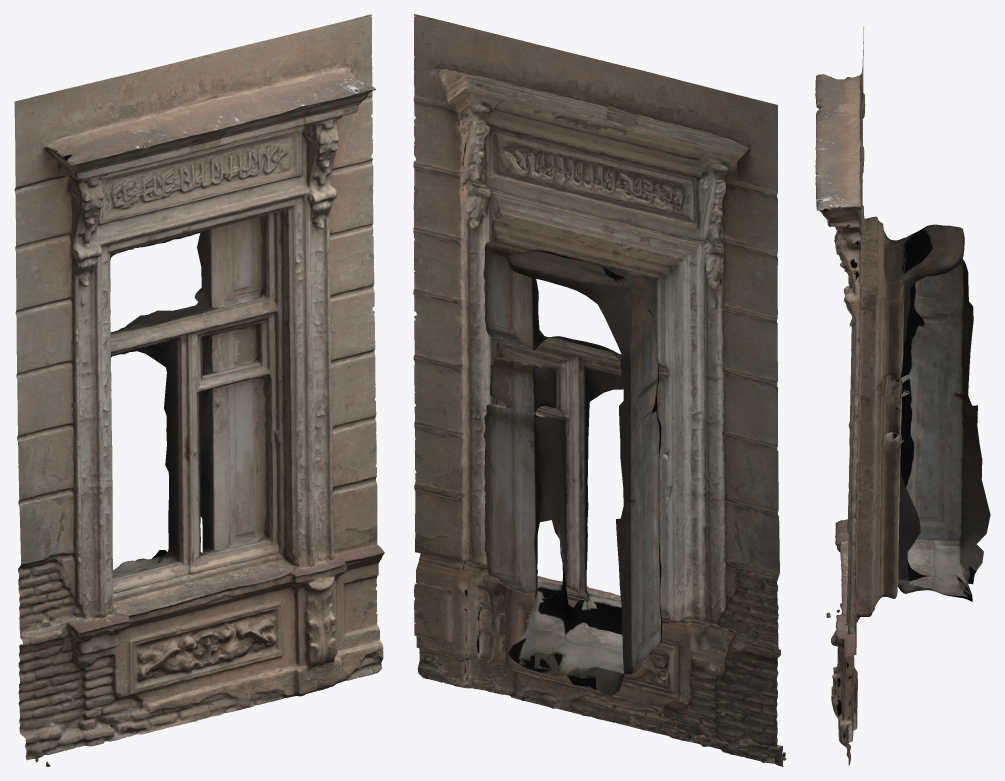
File: nik-window-2048.glb
3 views of the same model, side by side, from view 1: azimuth 30°, elevation 25°; view 2: azimuth 150°, elevation 25°; view 3: azimuth 270°, elevation 25° (orthographic). The views are drawn at different scales.
Visible parts, largest first — view 1: Model; view 2: Model; view 3: Model.
Boxes of the visible parts, bbox=[...] form: Model: bbox=[14, 14, 384, 766]; Model: bbox=[413, 14, 786, 766]; Model: bbox=[815, 27, 990, 765].
Size of the model in its own units: 3.15 by 5.49 by 1.46.
Materials: 1 (1 with a texture image).
